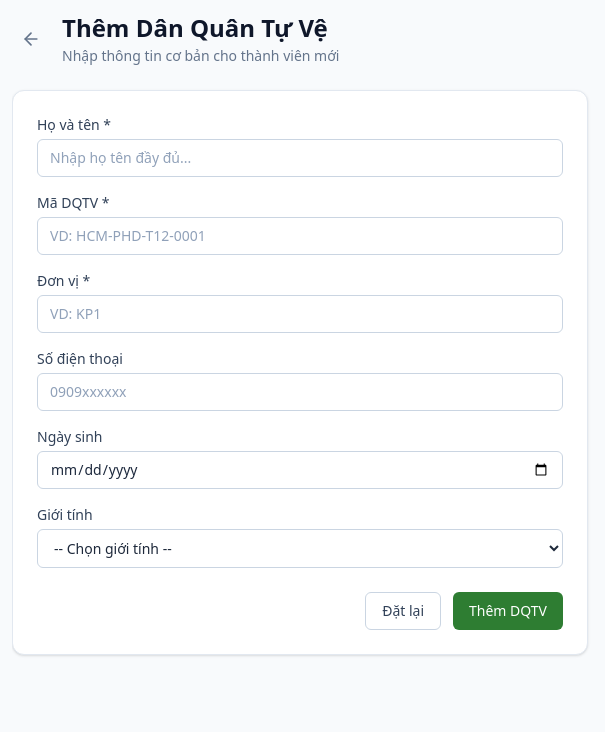
Test: MilitiaCreateForm › validation › validates phone number format
Type "12345" into the field with test id "phone-input" at [300, 392], box [37,373,563,411]
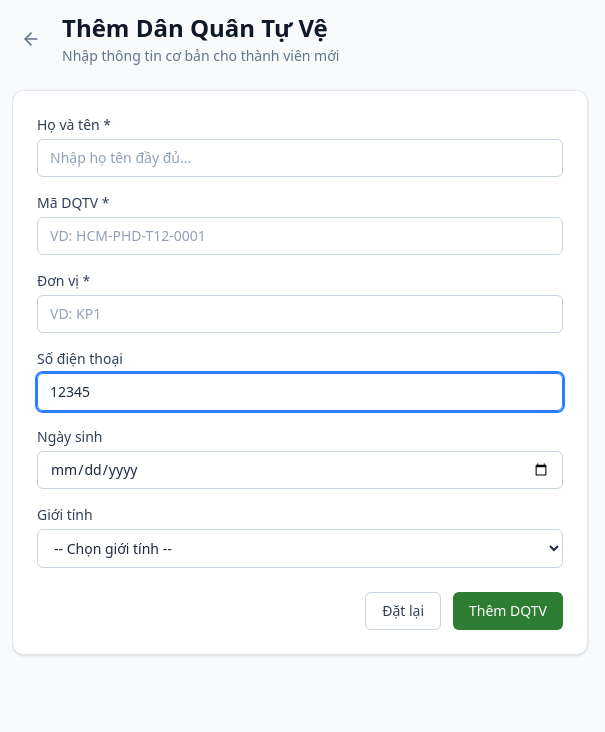
Click the button with test id "submit-btn" at [508, 611], box [453,592,563,630]
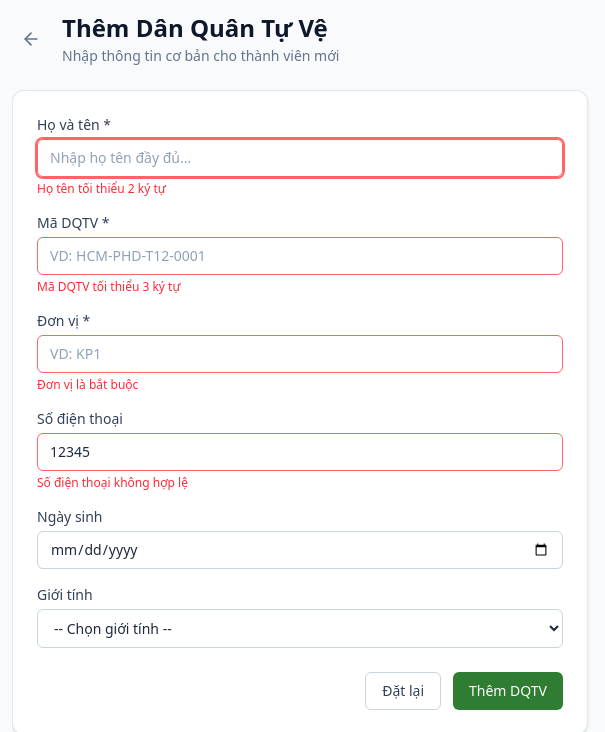
Expected: the text "Số điện thoại không hợp lệ" is shown, [37,474,188,491]
